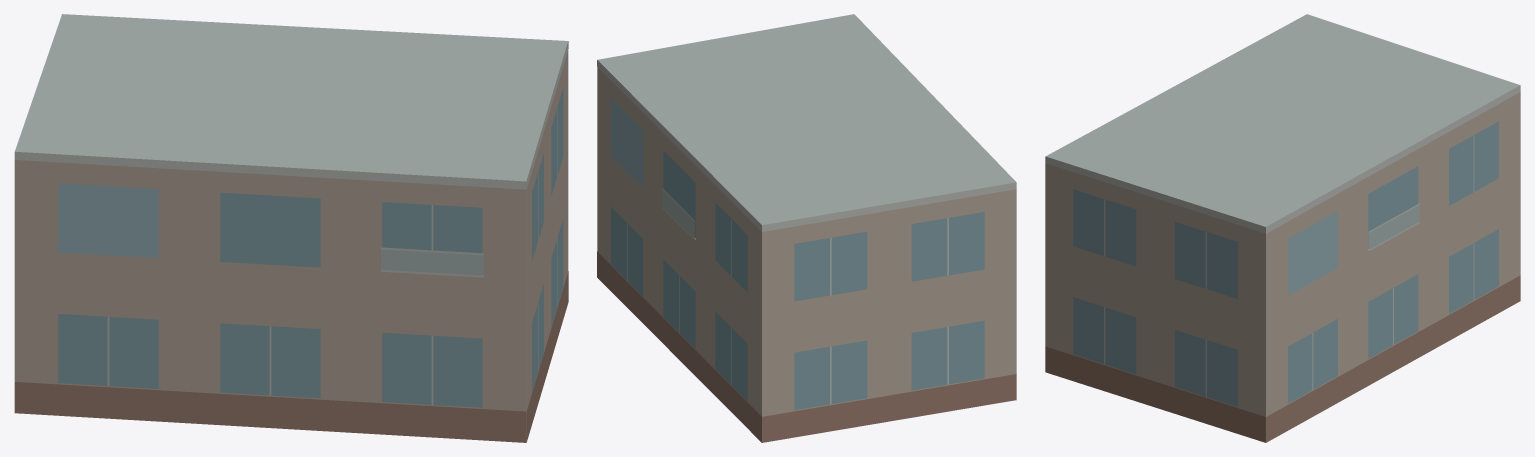
Rendered from survey-upis-32629653.glb.
3 renders of one model, left to right at view 1: azimuth 30°, elevation 25°; view 2: azimuth 150°, elevation 25°; view 3: azimuth 270°, elevation 25°, orthographic. The views are drawn at different scales.
Visible parts, largest first — view 1: survey-upis-32629653.tmp; view 2: survey-upis-32629653.tmp; view 3: survey-upis-32629653.tmp.
Boxes of the visible parts, left/top/right/bottom form: survey-upis-32629653.tmp: left=14, top=14, right=568, bottom=442; survey-upis-32629653.tmp: left=597, top=14, right=1016, bottom=442; survey-upis-32629653.tmp: left=1045, top=14, right=1520, bottom=442.
Size of the model in its own units: 16.52 by 7.8 by 15.57.
